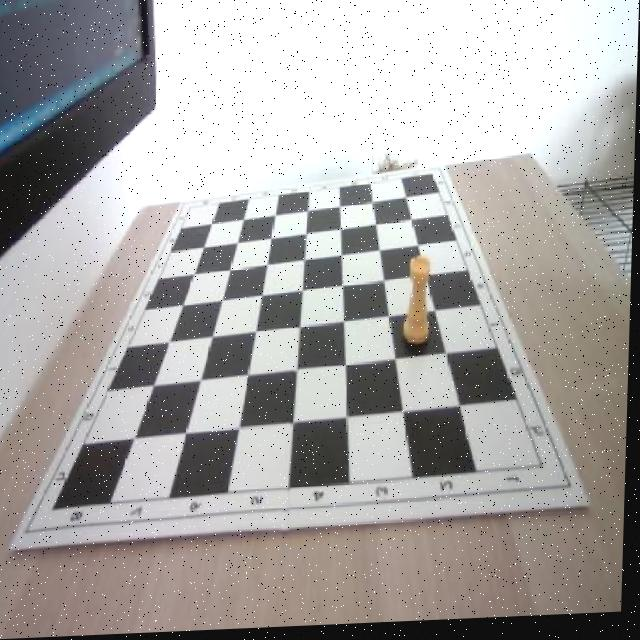white-queen: (406, 258, 437, 350)
